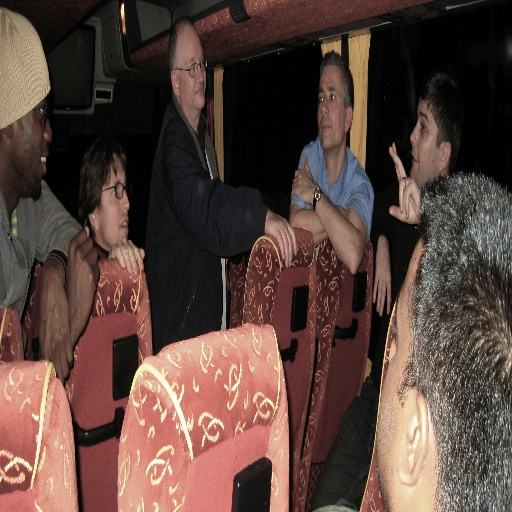hand: (63, 224, 101, 345), (37, 271, 75, 383), (396, 145, 431, 219), (263, 207, 298, 271), (105, 236, 145, 278), (371, 242, 391, 321), (288, 157, 318, 204), (334, 207, 348, 217)
